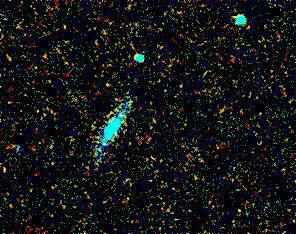star: (95, 68, 125, 98)
